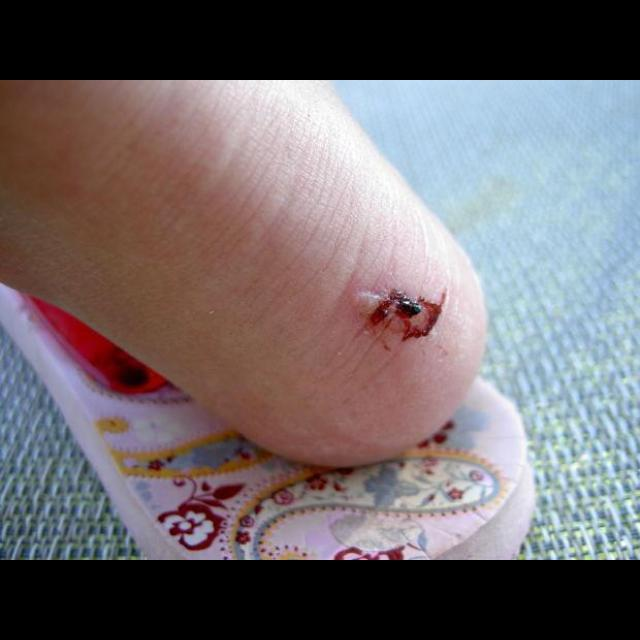blood: (371, 289, 444, 341)
